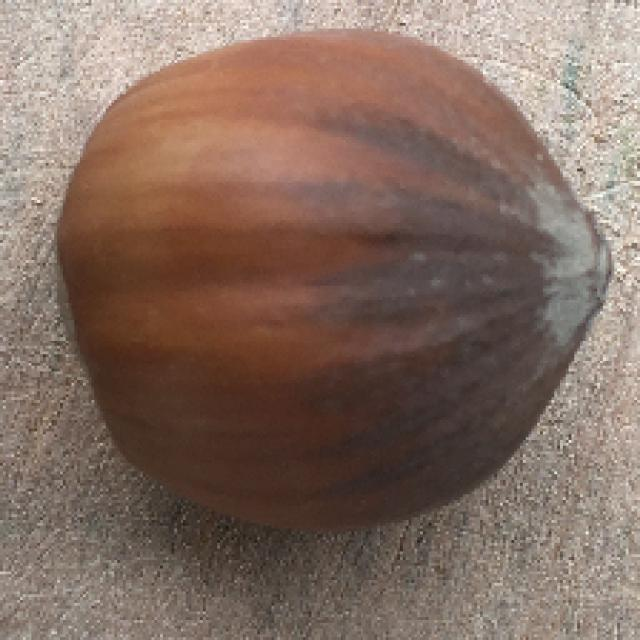qualityHazelnut: (60, 30, 618, 533)
